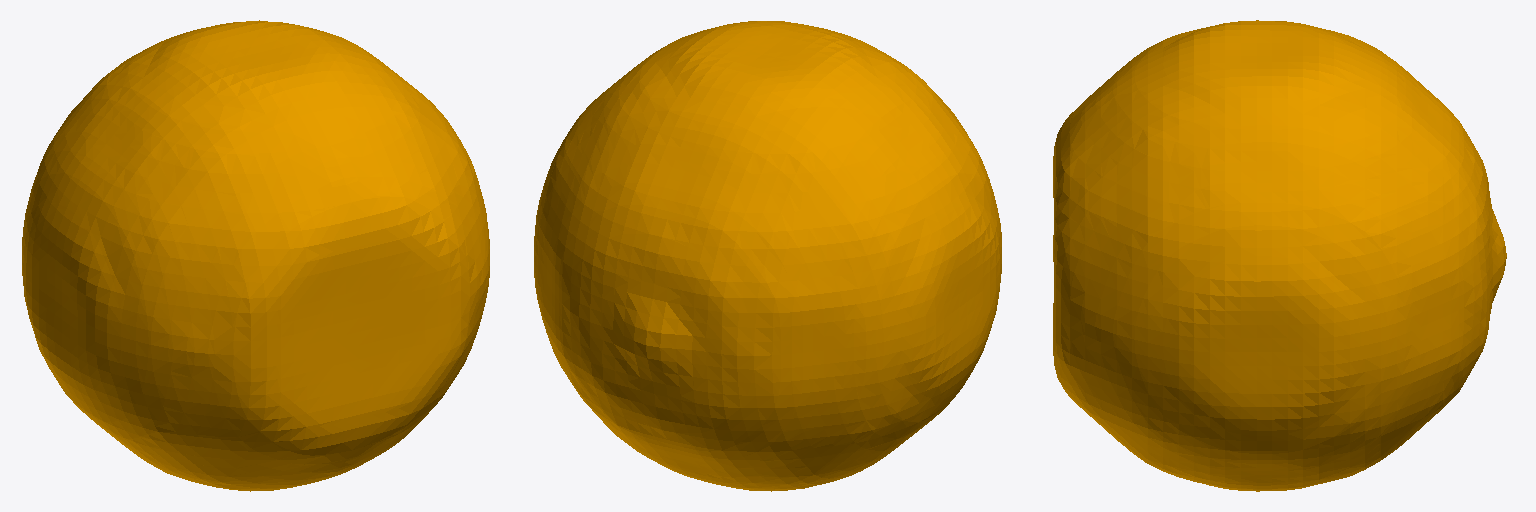
URDF robot description (C00_1):
<?xml version="1.0"?>
<robot name="C00_1">
  <link name="base_link">
    <visual>
      <geometry>
        <mesh filename="../../../../meshes/egad/train/C00_1.obj" />
      </geometry>
    </visual>
  </link>
</robot>

--- Facts derived from the render (not from the file) ---
3 views of the same robot in one strip: view 1: azimuth 30°, elevation 25°; view 2: azimuth 150°, elevation 25°; view 3: azimuth 270°, elevation 25° (orthographic).
Robot: C00_1 — 1 links, 0 joints (none); root link base_link; default pose: every joint at zero.
Links seen in each view (by area): view 1: base_link; view 2: base_link; view 3: base_link.
Link boxes in pixels (x1,y1,x2,y2): base_link: [22, 20, 489, 491]; base_link: [534, 21, 1001, 491]; base_link: [1053, 20, 1506, 491].
Bounding box of the posed robot: 0.0604 × 0.06 × 0.0604 m (x, y, z).
Meshes: 1 distinct files referenced, 1 mesh visuals loaded (1 OBJ).